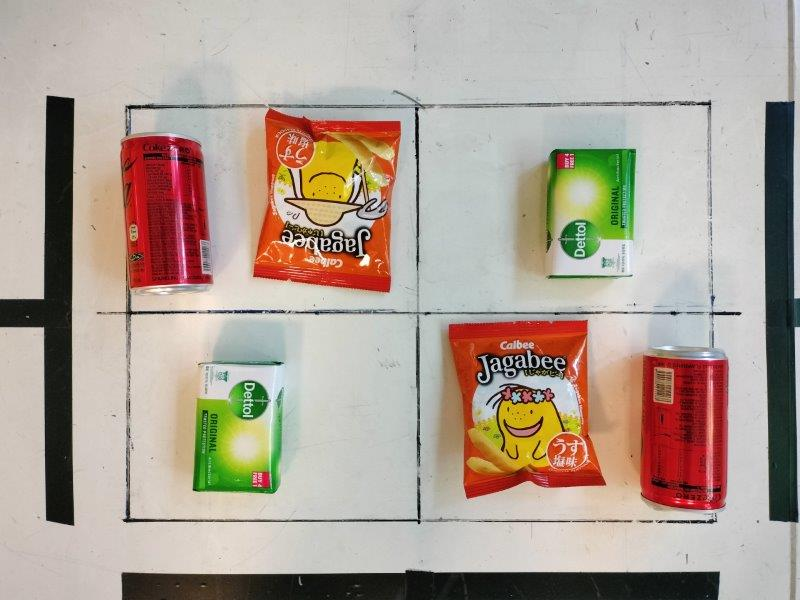Coke: (116, 131, 215, 297), (638, 343, 731, 512)
Dettol: (194, 360, 285, 493), (545, 150, 635, 281)
Jagabee: (448, 319, 607, 497), (252, 110, 402, 291)
